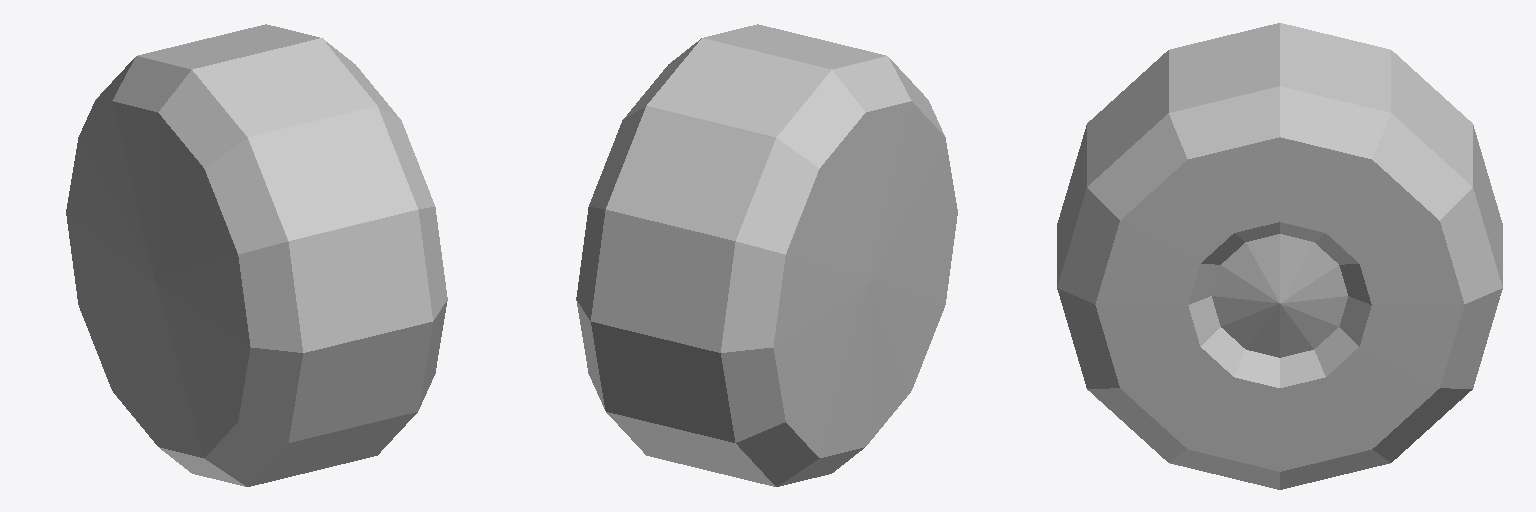
The model's file is spacetruck_wheel_front_left.obj.
The picture shows the model from 3 angles: view 1: azimuth 30°, elevation 25°; view 2: azimuth 150°, elevation 25°; view 3: azimuth 270°, elevation 25°; orthographic projection.
Parts seen in each view (by area): view 1: spacetruck_wheel_front_left_Cylinder.2702; view 2: spacetruck_wheel_front_left_Cylinder.2702; view 3: spacetruck_wheel_front_left_Cylinder.2702.
Boxes of the visible parts, <box> form: spacetruck_wheel_front_left_Cylinder.2702: <box>66,24,447,486</box>; spacetruck_wheel_front_left_Cylinder.2702: <box>576,24,957,486</box>; spacetruck_wheel_front_left_Cylinder.2702: <box>1057,23,1502,489</box>.
Size of the model in its own units: 0.0916 by 0.1754 by 0.1754.